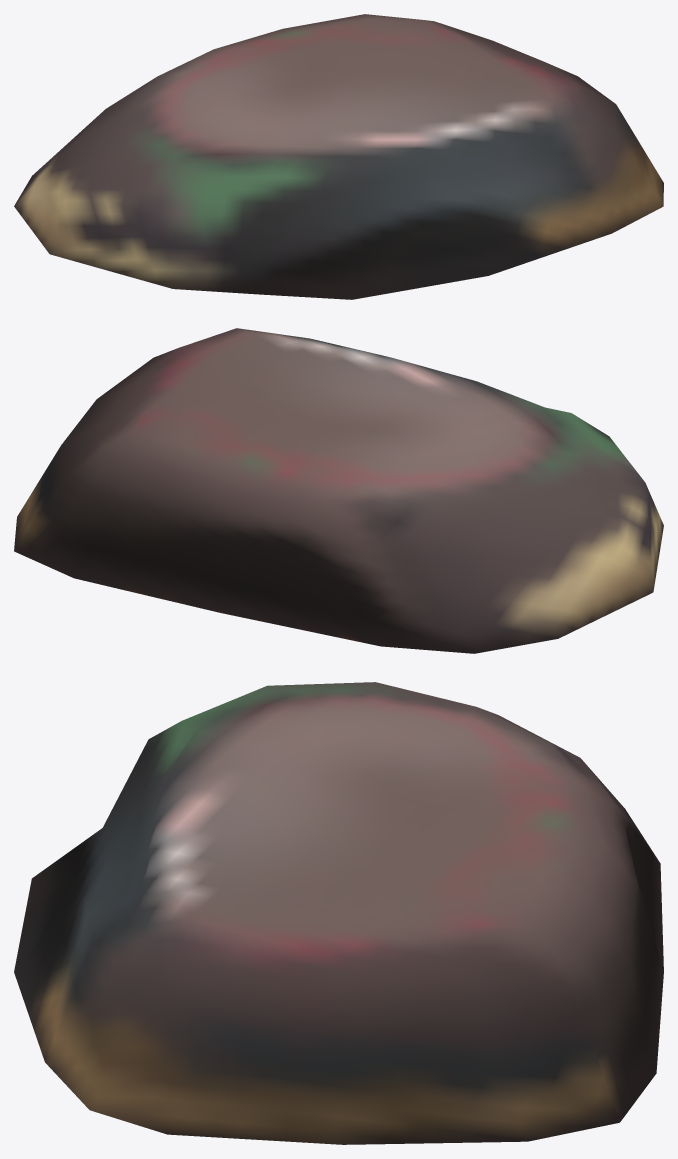
The model's file is Beach_RockLarge.glb.
The picture shows the model from 3 angles, top to bottom: view 1: azimuth 30°, elevation 25°; view 2: azimuth 150°, elevation 25°; view 3: azimuth 270°, elevation 25°; orthographic projection. The views are drawn at different scales.
Parts seen in each view (by area): view 1: Object_2.011; view 2: Object_2.011; view 3: Object_2.011.
Boxes of the visible parts, x1=… form: Object_2.011: x1=14, y1=14, x2=663, y2=299; Object_2.011: x1=14, y1=328, x2=663, y2=653; Object_2.011: x1=14, y1=682, x2=663, y2=1144.
Bounding box in the file's own units: 57.72 × 11.99 × 41.94.
Materials: 1 (1 with a texture image).
